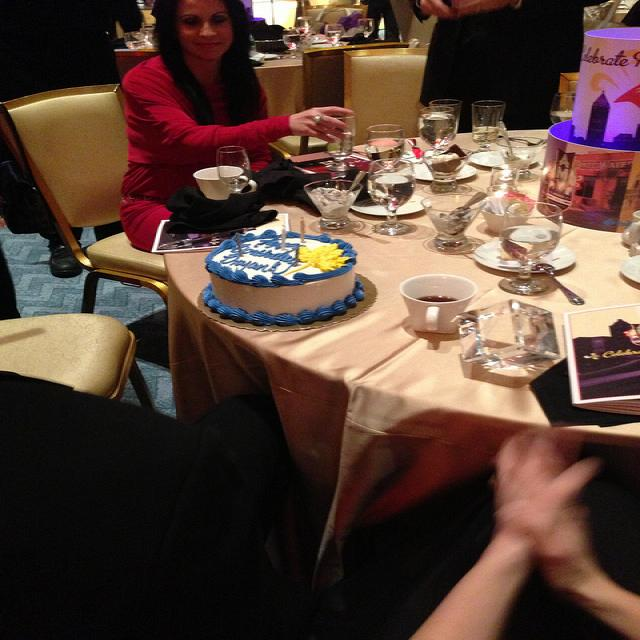chair: (2, 83, 172, 315), (0, 313, 164, 414), (342, 48, 432, 146), (303, 42, 410, 111)
dining table: (172, 109, 640, 440)
